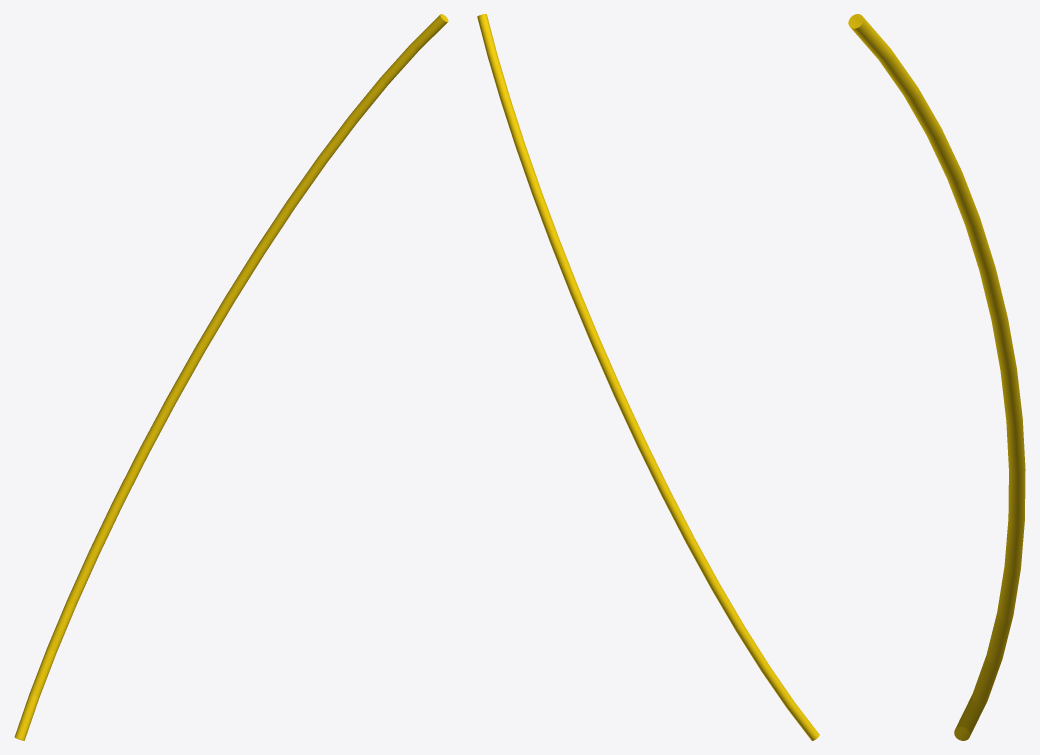
Rendered from Event_421127236_track_11.fbx.
The picture shows the model from 3 angles, left to right: view 1: azimuth 30°, elevation 25°; view 2: azimuth 150°, elevation 25°; view 3: azimuth 270°, elevation 25°; orthographic projection. The views are drawn at different scales.
Visible parts, largest first — view 1: Model; view 2: Model; view 3: Model.
Part boxes in pixels (x1,y1,x2,y2): Model: (14,14,448,740); Model: (477,14,819,740); Model: (848,14,1025,740).
Size of the model in its own units: 1.71 by 2.7 by 0.4257.
